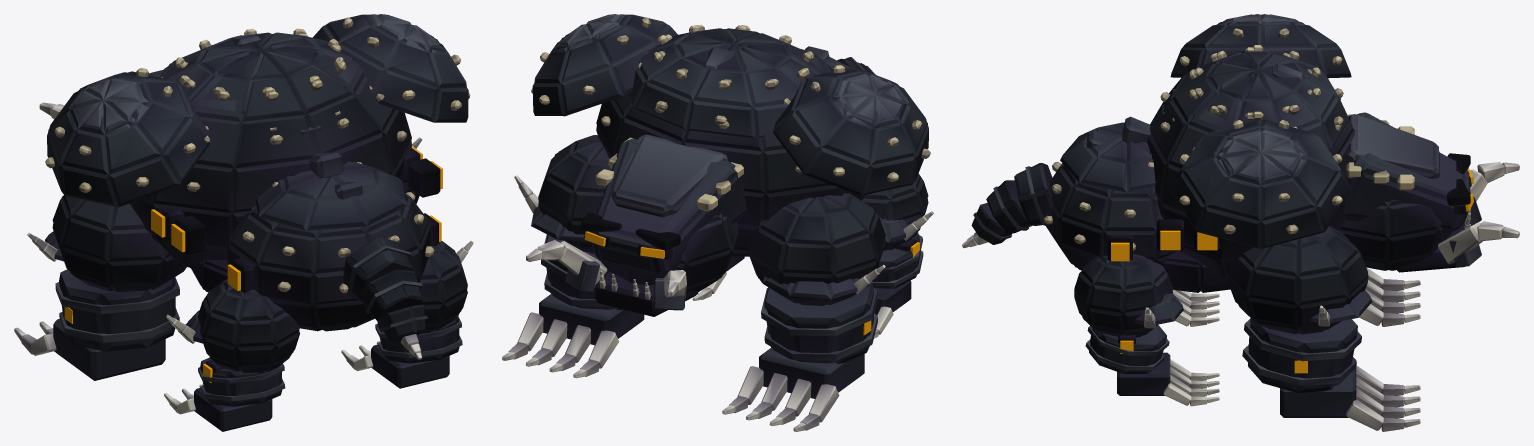
The model's file is Tosk.glb.
3 renders of one model, left to right at view 1: azimuth 30°, elevation 25°; view 2: azimuth 150°, elevation 25°; view 3: azimuth 270°, elevation 25°, orthographic. The views are drawn at different scales.
Visible parts, largest first — view 1: Body__Tex, LegFL1__Tex, LegBL1__Tex, LegFL2__Tex, LegFL3__Tex, LegBR1__Tex, LegBL2__Tex, Tail1__Tex, LegBL3__Tex, LegBR3__Tex, Tail2__Tex, LegBR2__Tex (+2 smaller); view 2: Body__Tex, Head__Tex, LegFL1__Tex, LegFL2__Tex, LegFL3__Tex, LegFR3__Tex, LegFR1__Tex, LegBL1__Tex, LegBL2__Tex, LegFR2__Tex, LegBL3__Tex, Head__Glow (+1 smaller); view 3: Body__Tex, Head__Tex, LegFR1__Tex, LegBR1__Tex, LegFR2__Tex, LegFR3__Tex, LegBR3__Tex, LegBR2__Tex, LegFL3__Tex, Tail1__Tex, Tail2__Tex, LegBL3__Tex (+2 smaller).
Part boxes in pixels (bbox=[...]): Body__Tex: bbox=[45, 14, 470, 331]; LegFL1__Tex: bbox=[27, 195, 186, 291]; LegBL1__Tex: bbox=[166, 279, 299, 373]; LegFL2__Tex: bbox=[55, 269, 179, 351]; LegFL3__Tex: bbox=[14, 319, 165, 380]; LegBR1__Tex: bbox=[419, 240, 473, 333]; LegBL2__Tex: bbox=[198, 357, 285, 406]; Tail1__Tex: bbox=[343, 236, 412, 302]; LegBL3__Tex: bbox=[164, 384, 272, 431]; LegBR3__Tex: bbox=[341, 341, 449, 388]; Tail2__Tex: bbox=[361, 269, 422, 322]; LegBR2__Tex: bbox=[375, 317, 462, 363]; Body__Tex: bbox=[531, 14, 930, 256]; Head__Tex: bbox=[526, 134, 746, 316]; LegFL1__Tex: bbox=[749, 193, 885, 305]; LegFL2__Tex: bbox=[761, 282, 878, 363]; LegFL3__Tex: bbox=[722, 347, 864, 431]; LegFR3__Tex: bbox=[502, 293, 644, 378]; LegFR1__Tex: bbox=[514, 135, 611, 253]; LegBL1__Tex: bbox=[862, 173, 933, 250]; LegBL2__Tex: bbox=[872, 232, 923, 288]; LegFR2__Tex: bbox=[541, 234, 622, 310]; LegBL3__Tex: bbox=[874, 280, 911, 338]; Head__Glow: bbox=[584, 231, 664, 258]; Body__Tex: bbox=[1044, 14, 1355, 292]; Head__Tex: bbox=[1340, 112, 1519, 272]; LegFR1__Tex: bbox=[1227, 225, 1372, 334]; LegBR1__Tex: bbox=[1074, 254, 1183, 337]; LegFR2__Tex: bbox=[1242, 318, 1361, 392]; LegFR3__Tex: bbox=[1280, 357, 1420, 431]; LegBR3__Tex: bbox=[1117, 352, 1219, 406]; LegBR2__Tex: bbox=[1085, 325, 1169, 373]; LegFL3__Tex: bbox=[1359, 267, 1420, 326]; Tail1__Tex: bbox=[1014, 163, 1053, 226]; Tail2__Tex: bbox=[986, 180, 1032, 233]; LegBL3__Tex: bbox=[1172, 290, 1219, 326].
Size of the model in its own units: 6.23 by 4.83 by 8.32.
